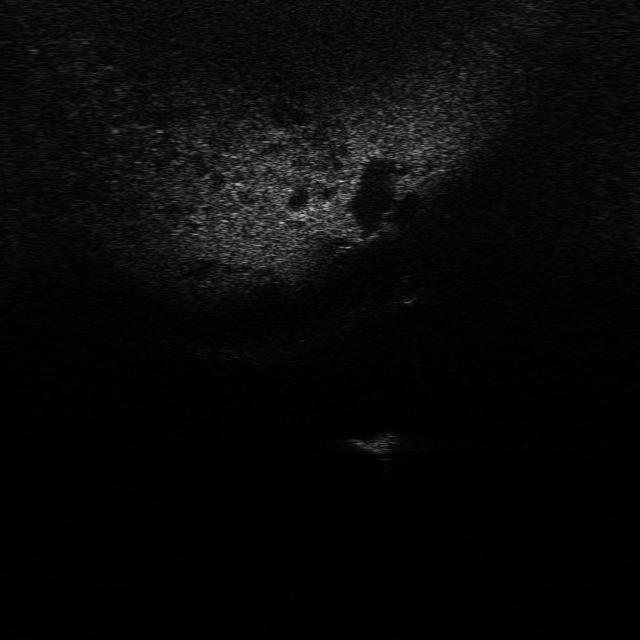ball: (389, 273, 427, 304)
cube: (346, 427, 406, 457)
